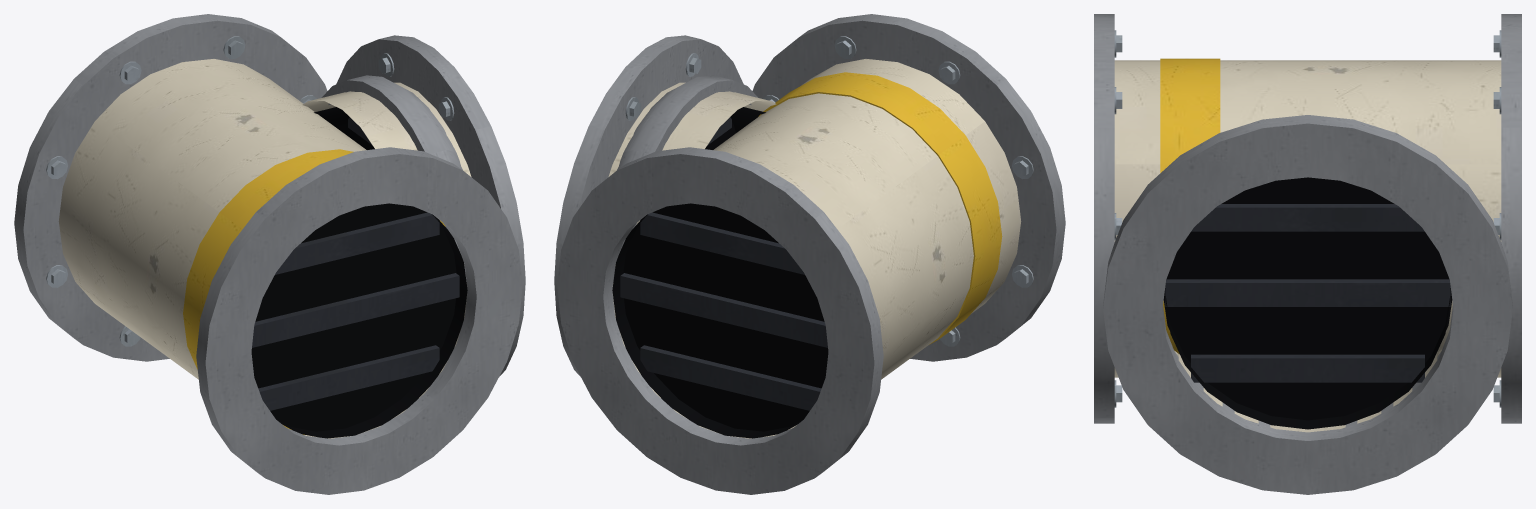
File: large_pipe_tee.glb
3 renders of one model, left to right at view 1: azimuth 30°, elevation 25°; view 2: azimuth 150°, elevation 25°; view 3: azimuth 270°, elevation 25°, orthographic. The views are drawn at different scales.
Visible parts, largest first — view 1: Body.003; view 2: Body.003; view 3: Body.003.
Boxes of the visible parts, <box> form: Body.003: <box>14,14,525,494</box>; Body.003: <box>554,14,1065,494</box>; Body.003: <box>1094,14,1521,494</box>.
Bounding box in the file's own units: 0.4865 × 0.476 × 0.497.
6 materials, 5 textured.
